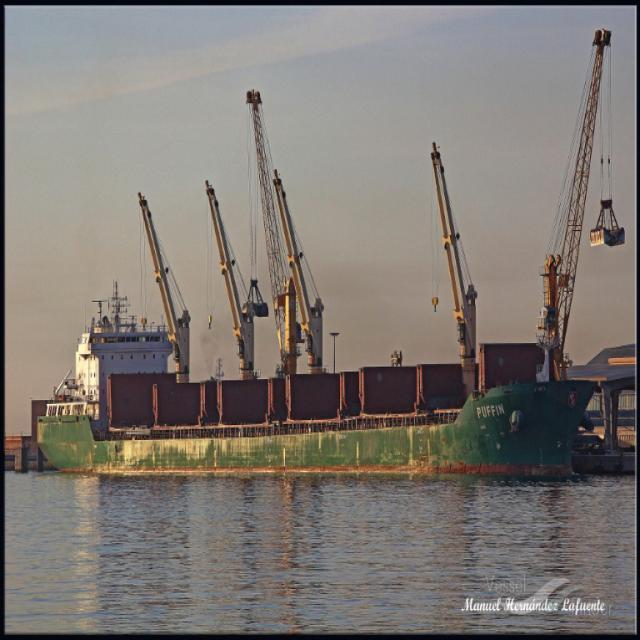OCR: (472, 401, 506, 424)
